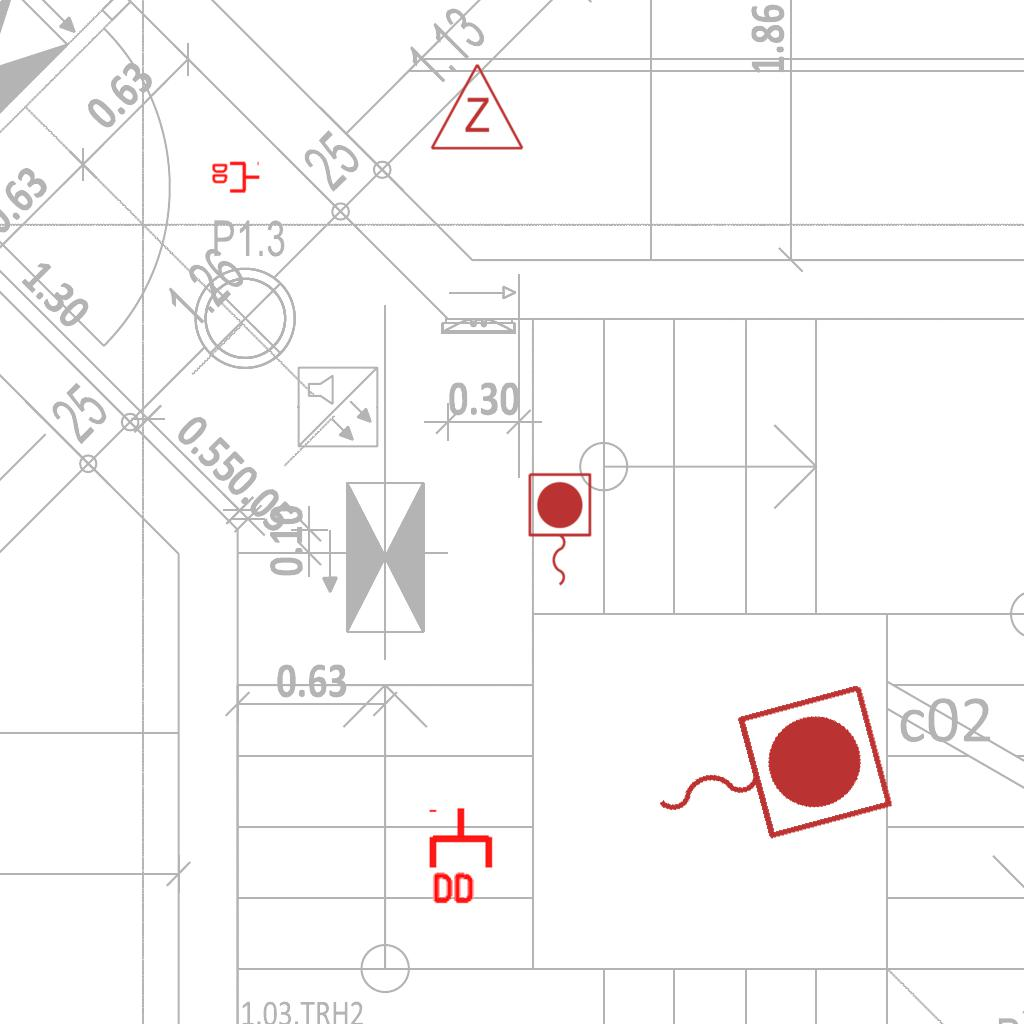Datenanschluss_zweifach: (428, 805, 497, 908), (210, 161, 261, 195)
Zimmersignalleuchte: (427, 57, 525, 157)
Zugtaster: (629, 671, 903, 875), (523, 469, 595, 591)
